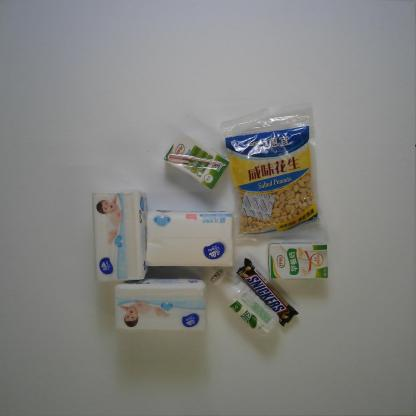Chocolate: (235, 257, 300, 327)
Dried Fruit: (218, 99, 322, 243)
Milk: (210, 268, 280, 337), (163, 130, 231, 190), (266, 240, 329, 280)
Tissue: (90, 188, 149, 284), (145, 208, 236, 268), (112, 276, 208, 332)
